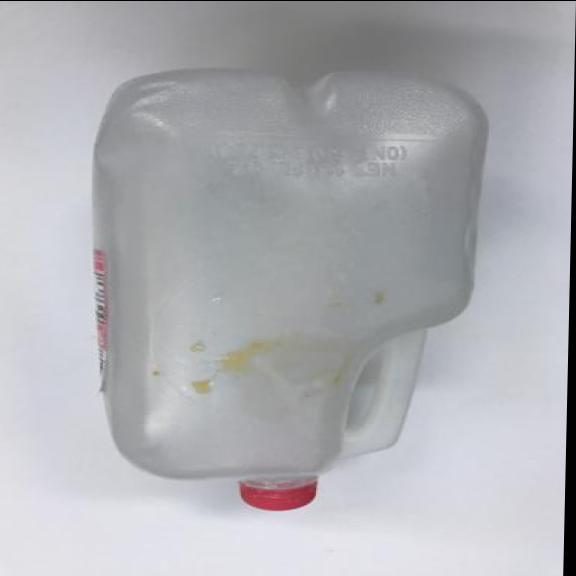Plastik: (66, 58, 500, 514)
